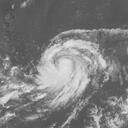cyclone: (33, 29, 110, 108)
